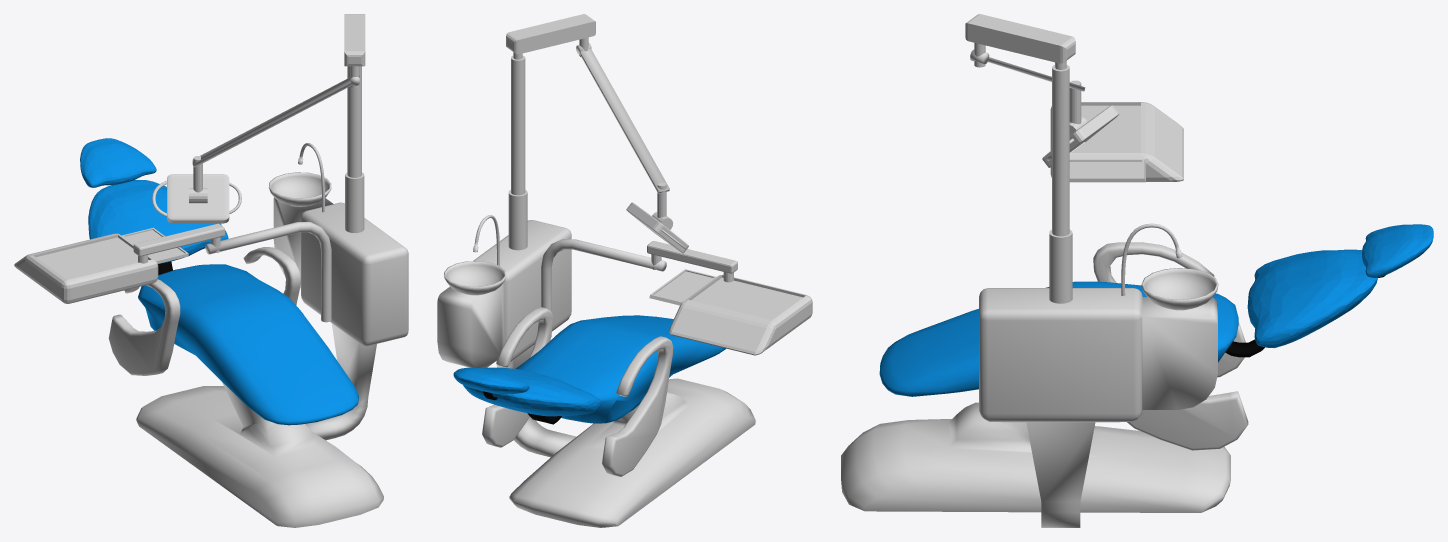
The model's file is BED01.fbx.
The picture shows the model from 3 angles, left to right: view 1: azimuth 30°, elevation 25°; view 2: azimuth 150°, elevation 25°; view 3: azimuth 270°, elevation 25°; orthographic projection. The views are drawn at different scales.
Visible parts, largest first — view 1: BED01; view 2: BED01; view 3: BED01.
Part boxes in pixels (x1,y1,x2,y2): BED01: (14,14,408,527); BED01: (437,14,812,527); BED01: (841,14,1433,527).
Size of the model in its own units: 151 by 188 by 201.
